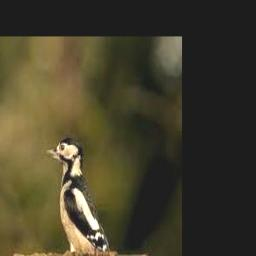Woodpecker: (45, 138, 110, 252)
